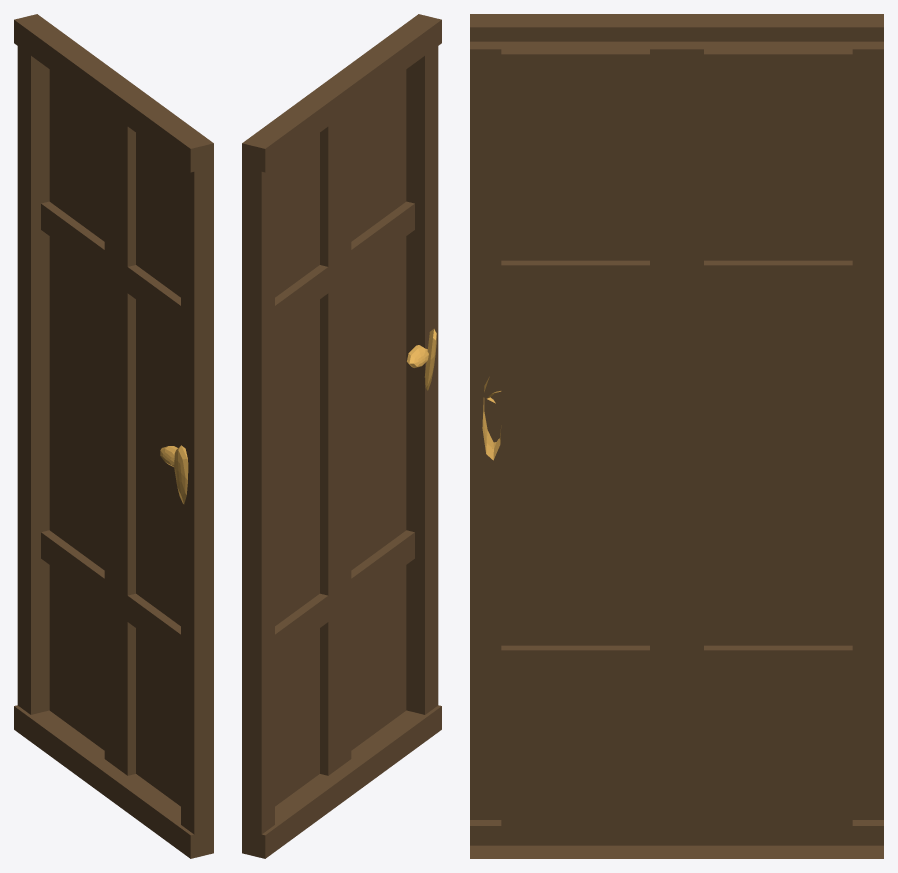
Rendered from Door.fbx.
The picture shows the model from 3 angles, left to right: view 1: azimuth 30°, elevation 25°; view 2: azimuth 150°, elevation 25°; view 3: azimuth 270°, elevation 25°; orthographic projection. The views are drawn at different scales.
Visible parts, largest first — view 1: Cube.150; view 2: Cube.150; view 3: Cube.150.
Part boxes in pixels (left/top/right/bottom): Cube.150: left=14, top=14, right=213, bottom=858; Cube.150: left=242, top=14, right=441, bottom=858; Cube.150: left=470, top=14, right=883, bottom=858.
Bounding box in the file's own units: 12.16 × 293 × 132.
